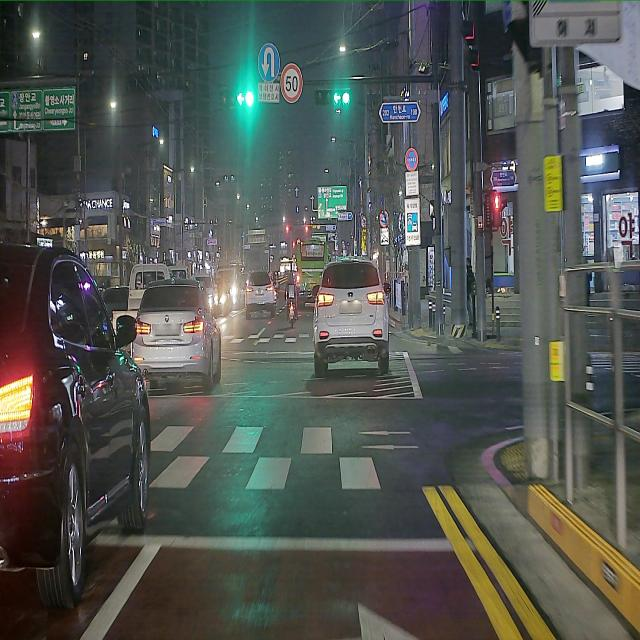Green Light: (245, 91, 254, 108), (341, 91, 351, 106)
